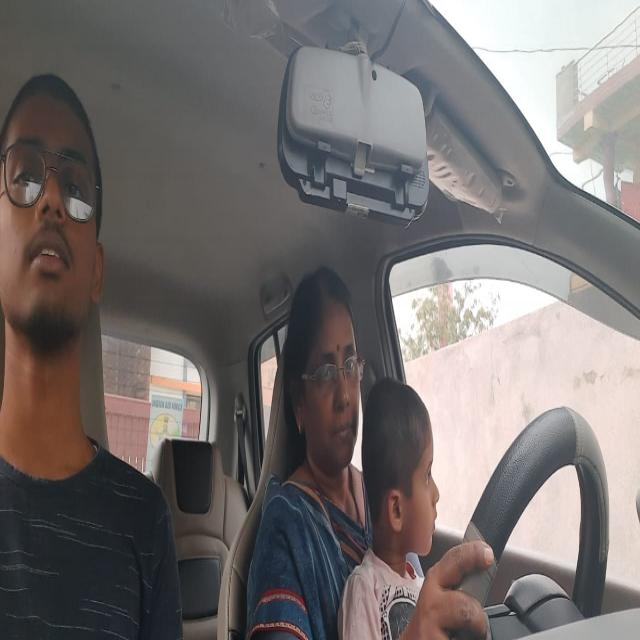child: (366, 376, 441, 565)
person: (0, 64, 111, 372), (279, 265, 363, 473)
